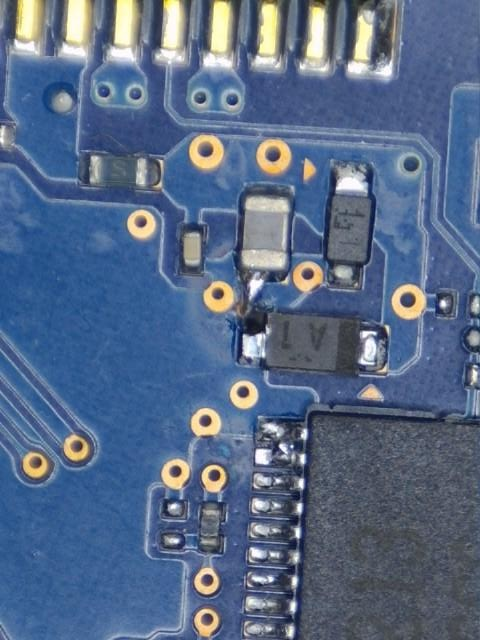pcb_defect: (239, 249, 289, 359), (256, 419, 308, 467)
